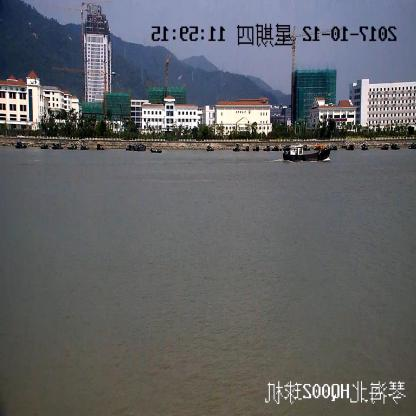Fishing Boat: (283, 145, 331, 161)
